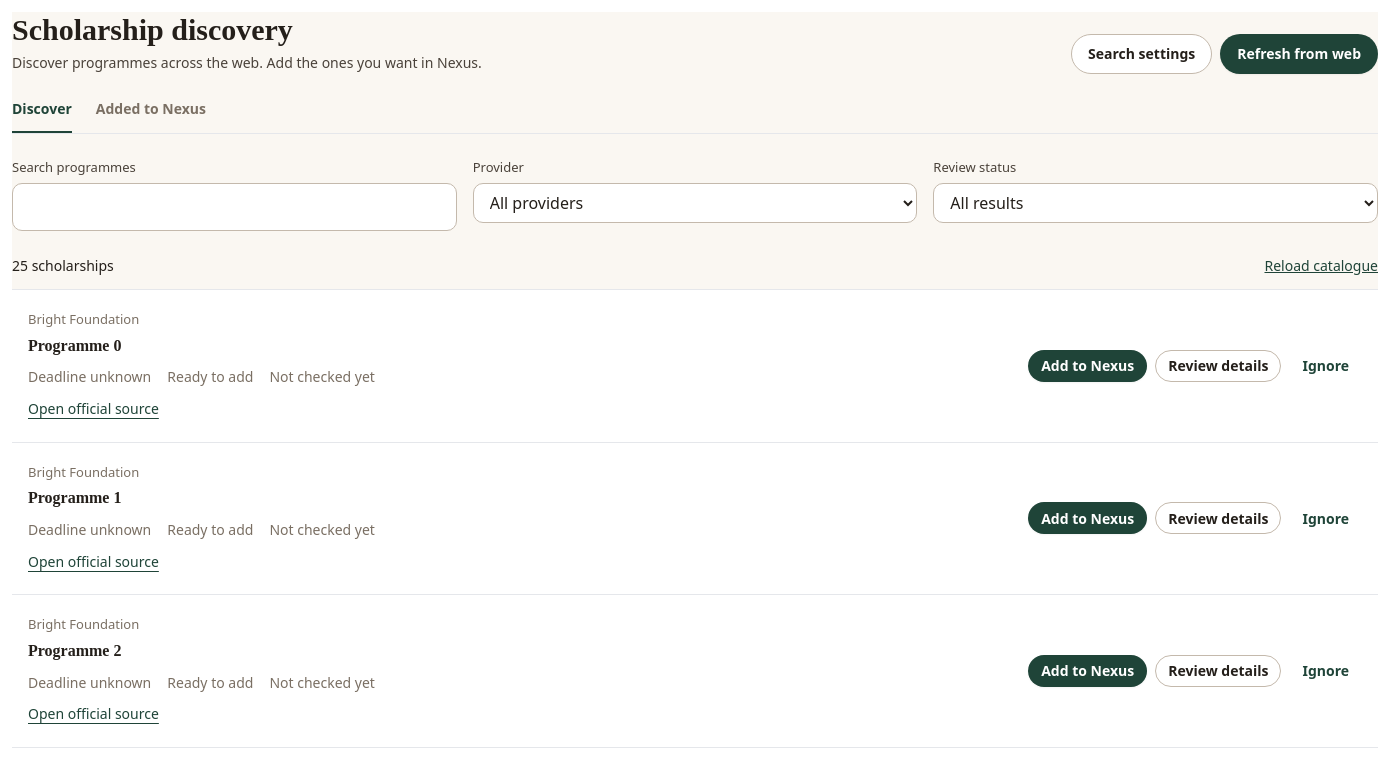
it: shows missing-key failures honestly instead of fabricated results
expect the text "25 scholarships" is shown: met, box [12, 255, 114, 277]
Click the button "Refresh from web": (1299, 54) [1220, 34, 1378, 74]
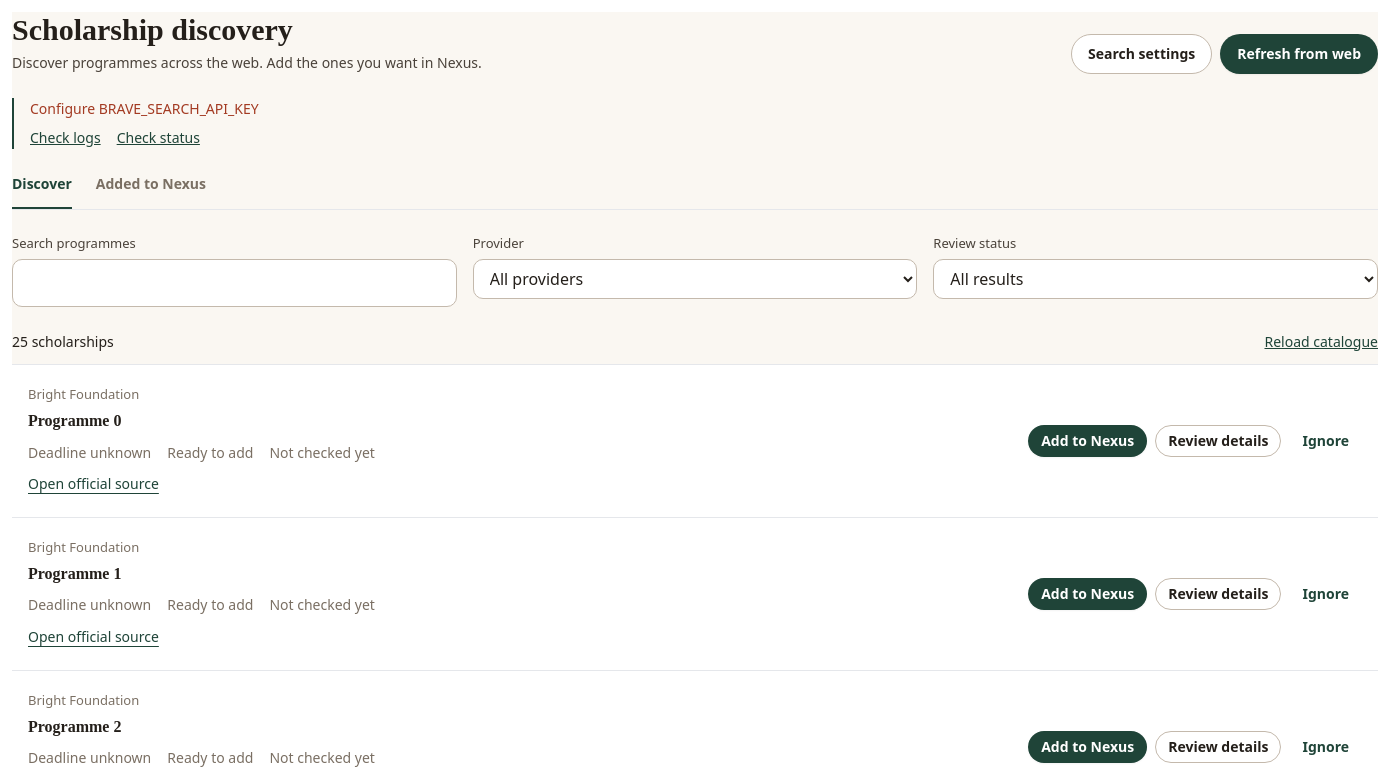
expect the text "Configure BRAVE_SEARCH_API_KEY" is shown: met, box [30, 99, 259, 118]
